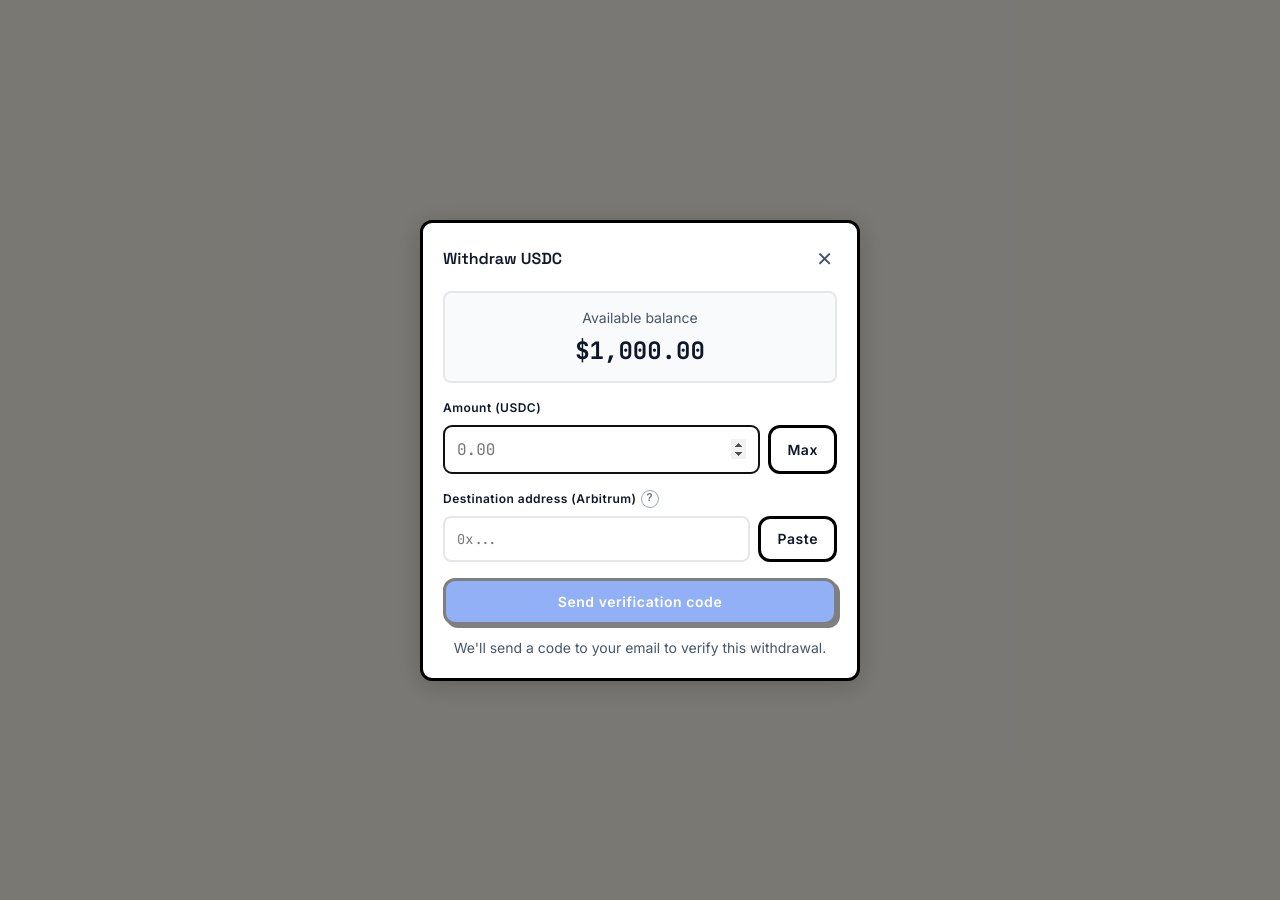
Test: WithdrawSheet › calculates correct net amount for max withdrawal
Click the button "Max" at (803, 449), box x1=768 y1=424 x2=837 y2=474
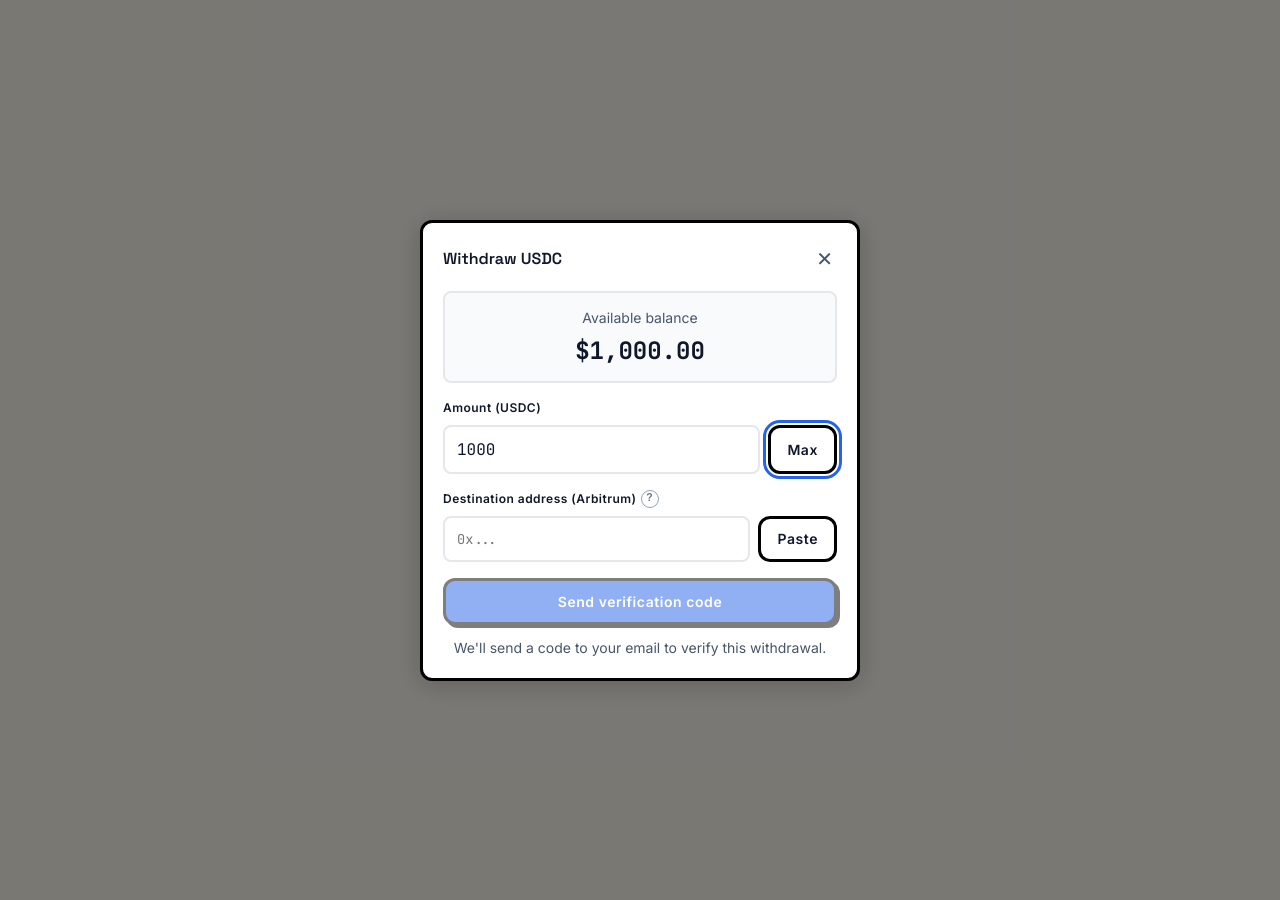
Type "0xAbCdEf1234567890AbCdEf1234567890AbCdEf12" into the field labelled "Destination address (Arbitrum)" at (597, 538), box x1=443 y1=516 x2=750 y2=562
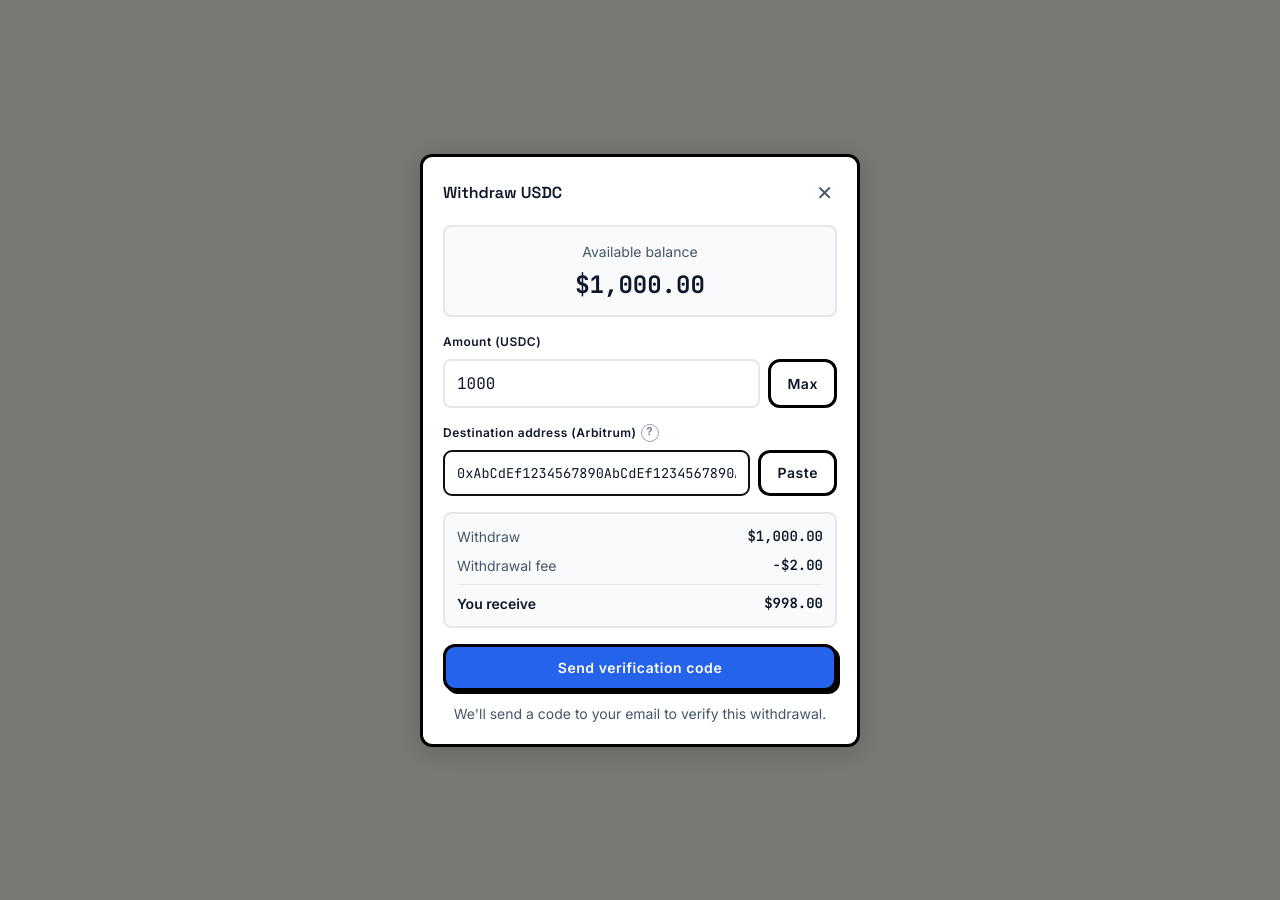
Expected: the text "$998.00" is shown, x1=764 y1=592 x2=823 y2=614
